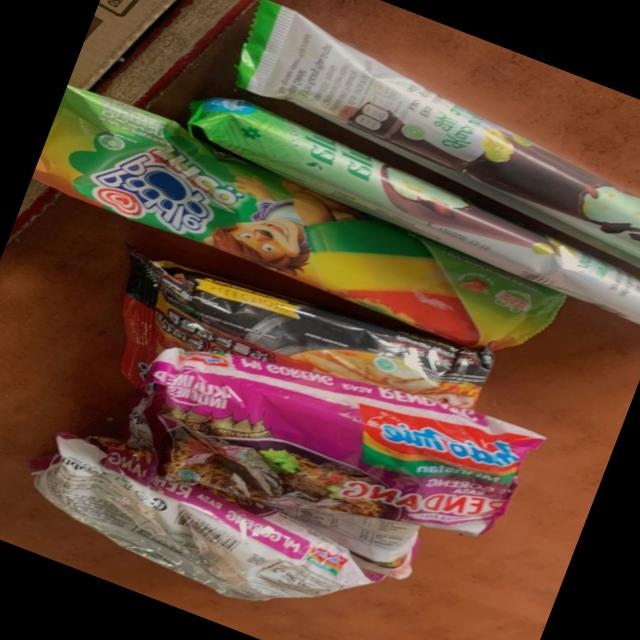KemasanPlastik: (27, 0, 640, 421), (106, 290, 584, 618), (87, 222, 520, 524), (2, 384, 460, 640)
